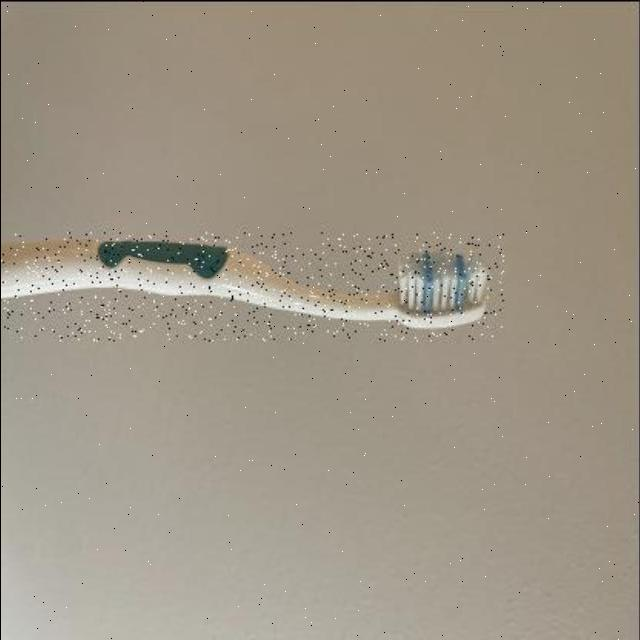toothbrush: (0, 230, 506, 340)
